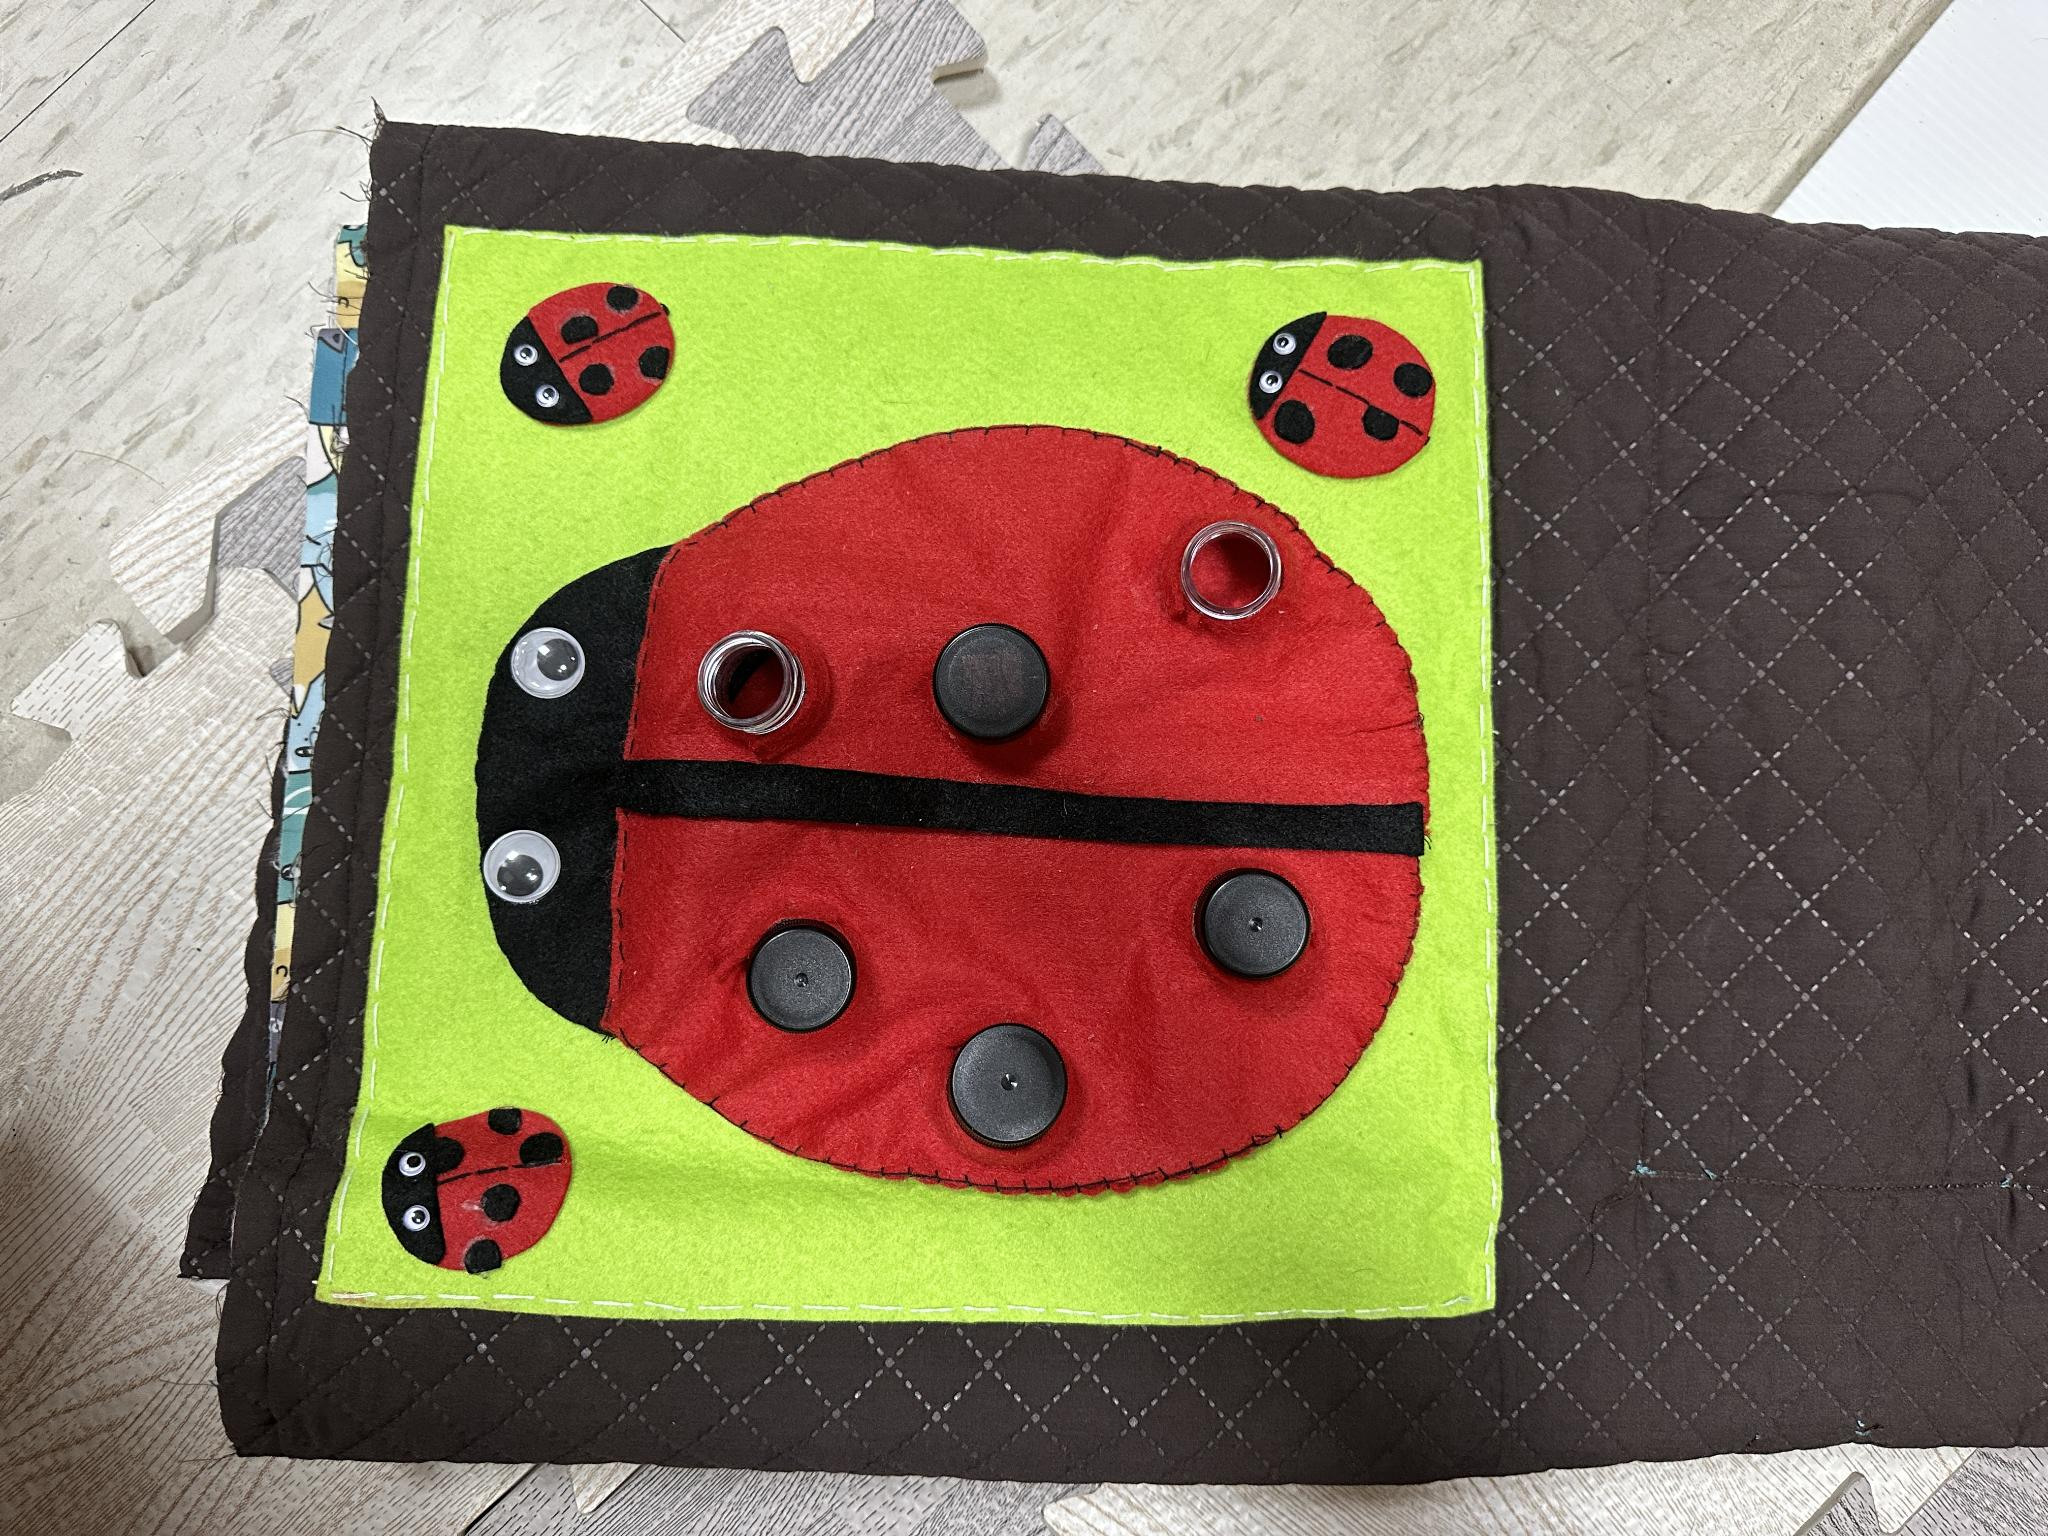cap_ok: (911, 976, 1105, 1175), (901, 600, 1090, 768), (1176, 844, 1348, 1008), (713, 892, 884, 1052)
